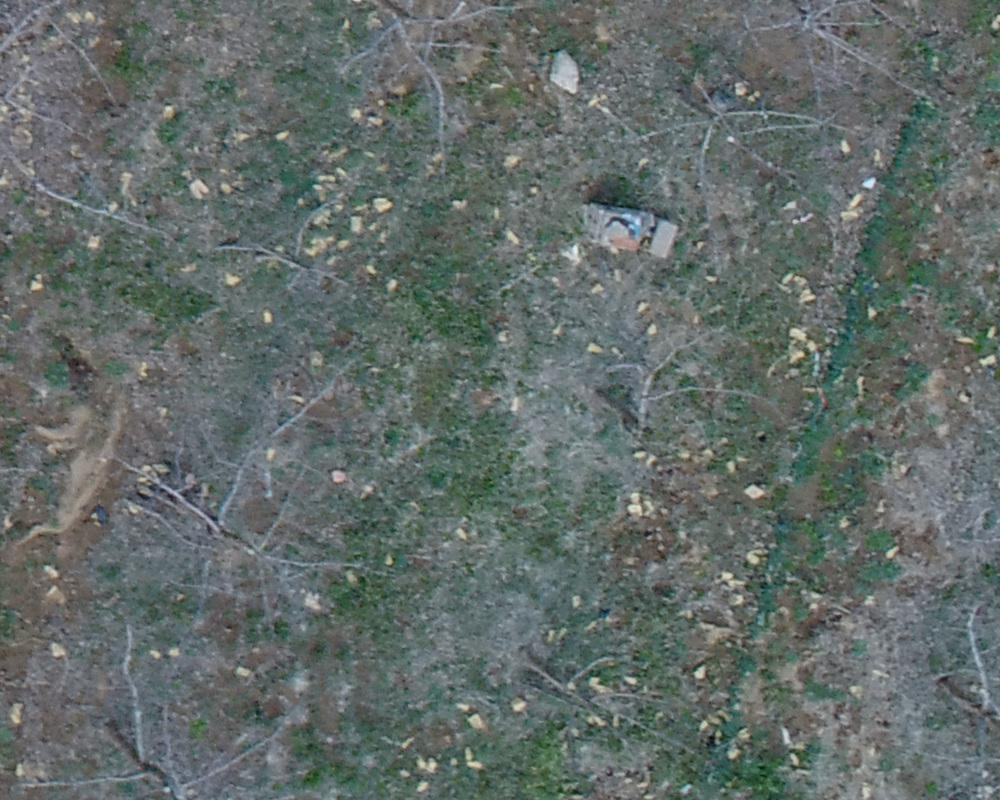apple: (73, 422, 396, 631), (222, 10, 582, 143), (10, 625, 294, 790), (652, 10, 985, 119), (569, 301, 797, 452), (623, 63, 837, 199), (491, 632, 682, 741)
